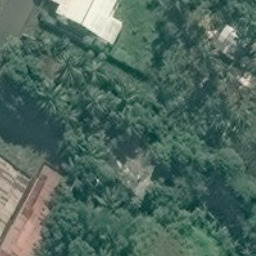buildings: (3, 156, 81, 256), (102, 137, 166, 197), (51, 1, 123, 50), (213, 23, 239, 61), (236, 73, 256, 92)
